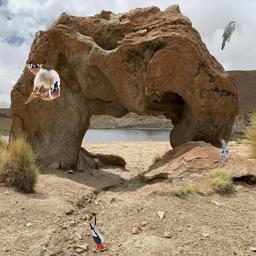Cuckoo: (221, 21, 235, 50)
Sparrow: (24, 64, 60, 104)
Swallow: (220, 139, 230, 163)
Woodpecker: (89, 215, 107, 250)
